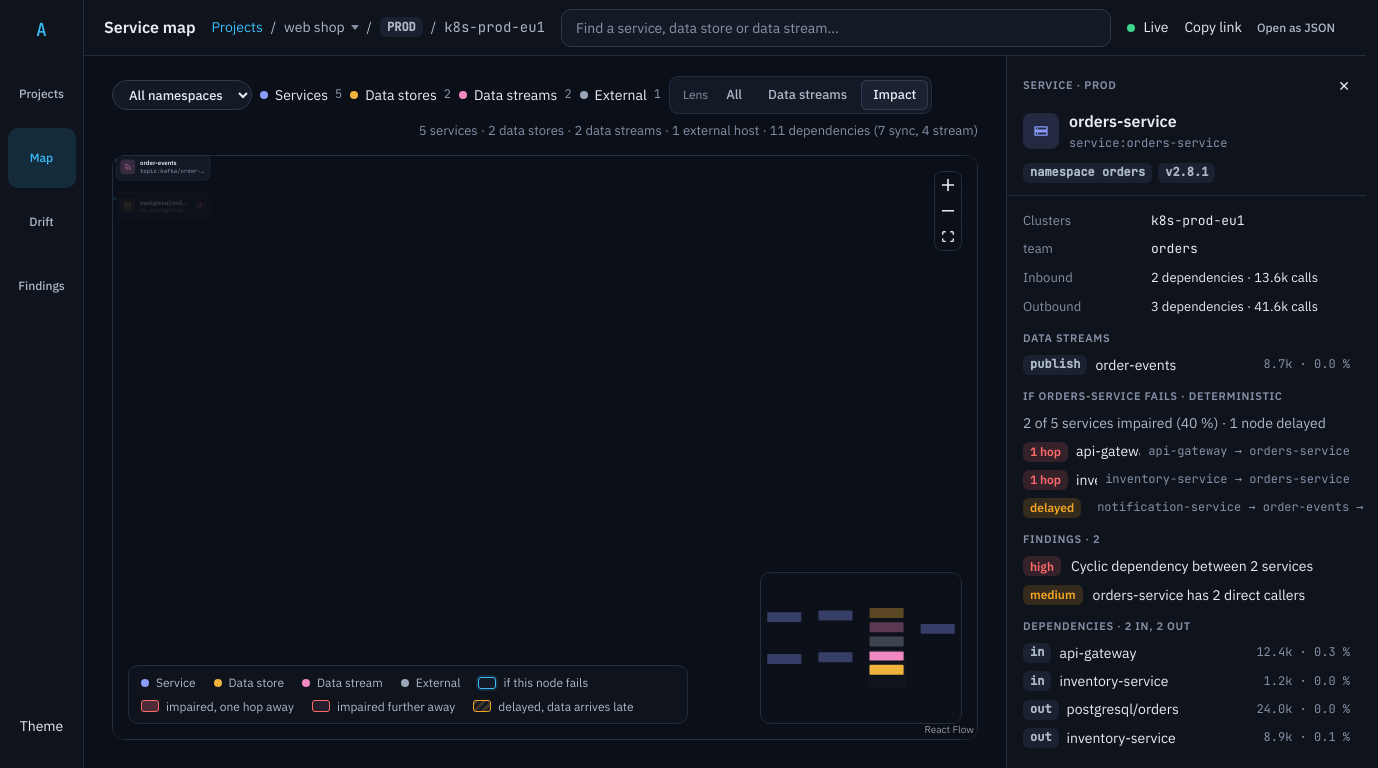
Test: ScopePage › shows what breaks if the selected node fails under the impact lens
Expected: the text "If orders-service fails · deterministic" is shown, [1023, 389, 1282, 403]
Expected: the element "If orders-service fails · deterministic" shows "2 of 5 services impaired (40 %) · 1 node delayed", [1023, 389, 1350, 518]
Click the button "1 hop inventory-service inventory-service → orders-service" at (1186, 480), box [1023, 470, 1350, 490]
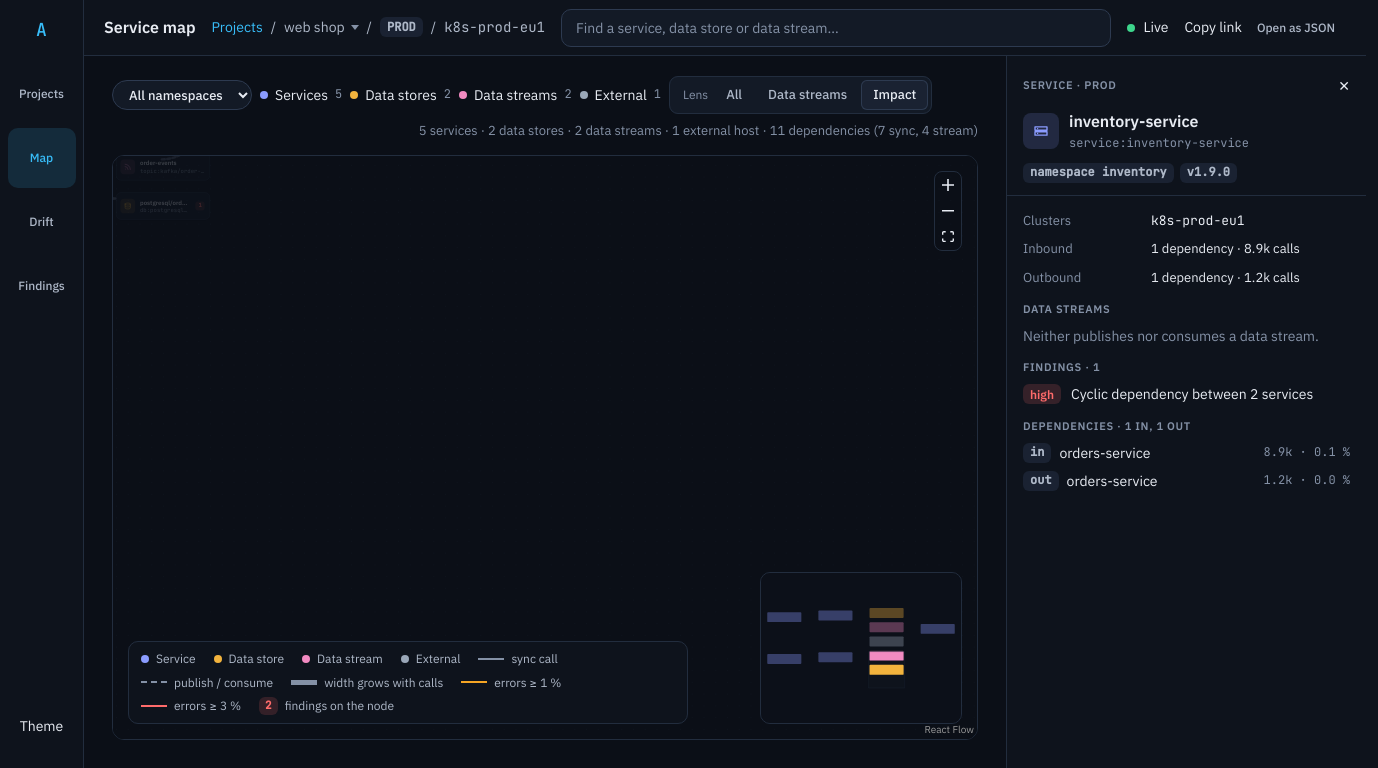
Result: the text "service:inventory-service" is shown at [1069, 135, 1249, 153]
